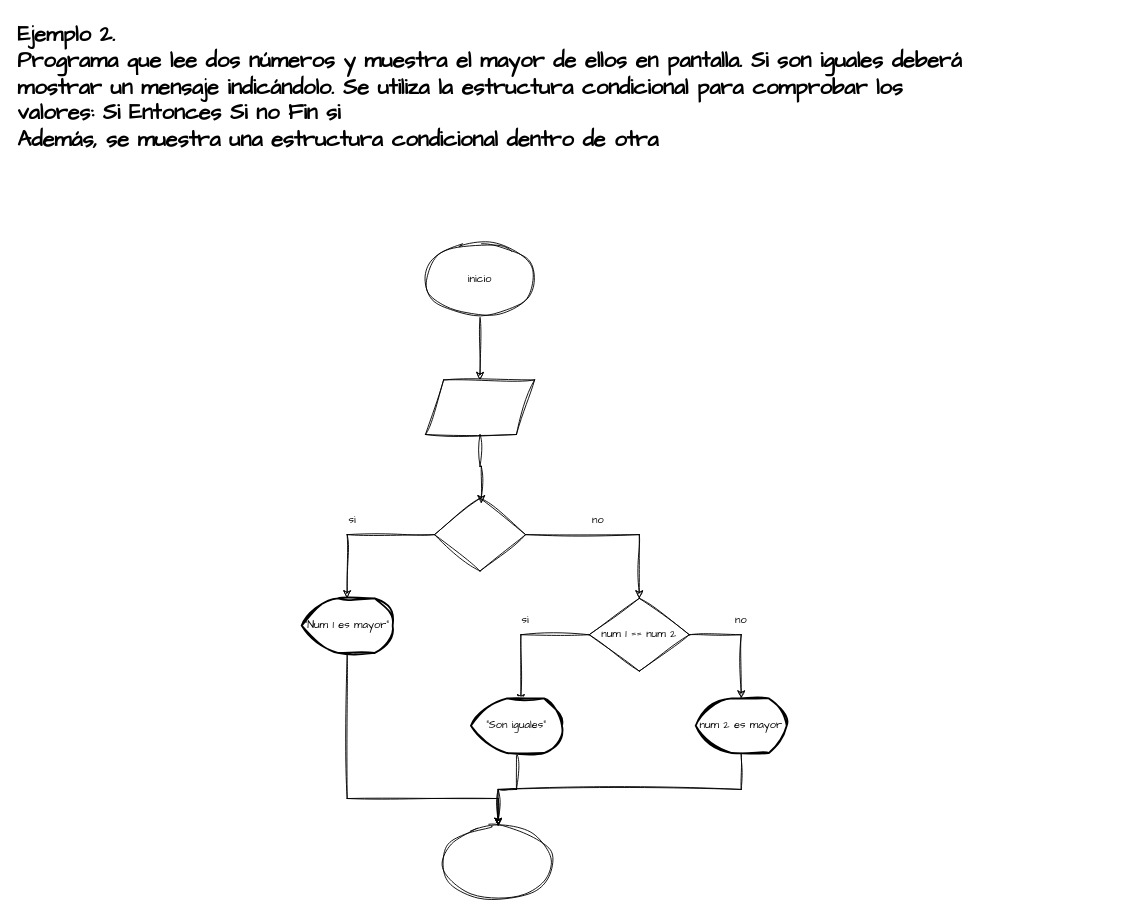
Some shapes in this 1132 by 915 pixel diagram are drawn without their labels. The centre of each missing label's shape, as x and y in pixels:
"fin" goes at point (498, 862).
"num 1 > num 2" goes at point (480, 534).
"num 1 num 2" goes at point (480, 407).
